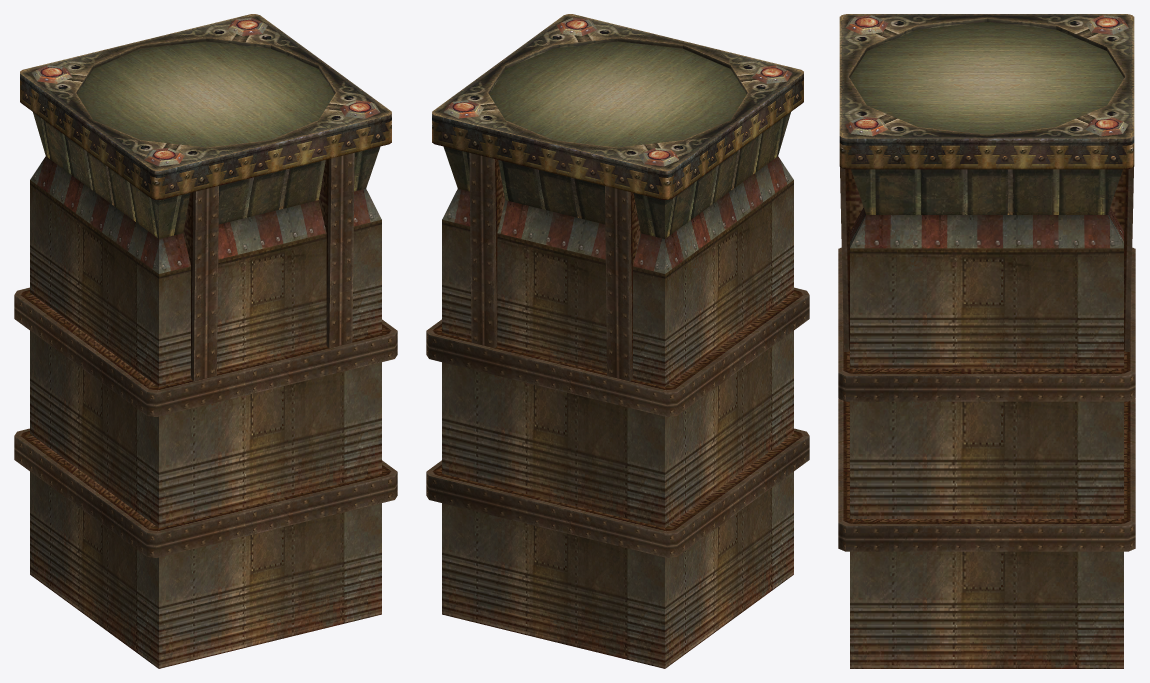
Rendered from CrusherBottom.gltf.
3 renders of one model, left to right at view 1: azimuth 30°, elevation 25°; view 2: azimuth 150°, elevation 25°; view 3: azimuth 270°, elevation 25°, orthographic. The views are drawn at different scales.
Visible parts, largest first — view 1: CrusherBottomMesh; view 2: CrusherBottomMesh; view 3: CrusherBottomMesh.
Part boxes in pixels (x1,y1,x2,y2): CrusherBottomMesh: [14, 14, 397, 668]; CrusherBottomMesh: [426, 14, 809, 668]; CrusherBottomMesh: [838, 14, 1135, 668].
Bounding box in the file's own units: 5.23 × 10.1 × 5.04.
4 materials, 4 textured.
